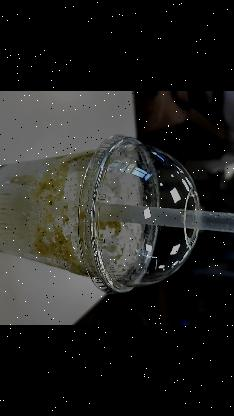Others: (0, 133, 206, 299), (75, 135, 202, 301), (78, 204, 234, 237)
